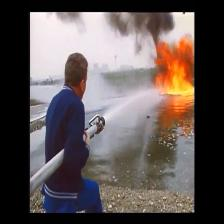fire: (146, 31, 194, 125)
